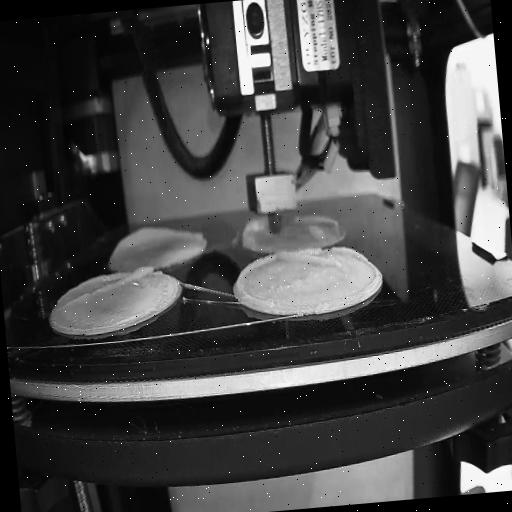over_extrusion: (61, 262, 157, 308), (110, 219, 208, 255), (276, 240, 369, 276), (234, 254, 276, 312), (240, 214, 270, 248)
